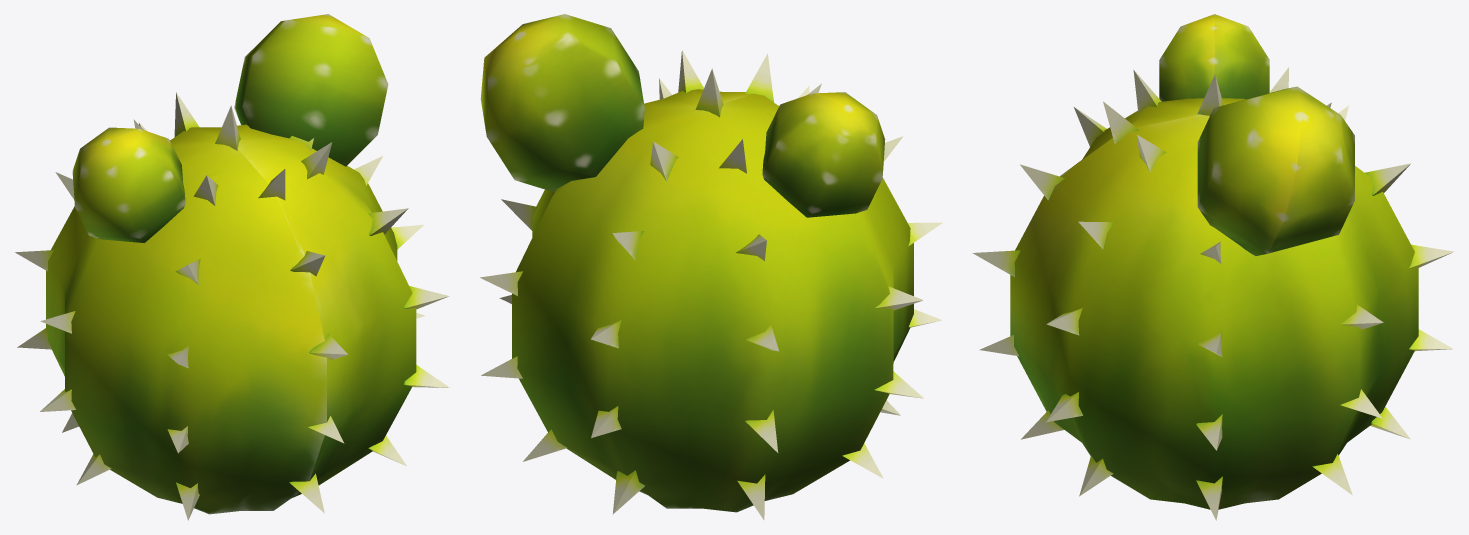
Rendered from tree1.fbx.
The picture shows the model from 3 angles, left to right: view 1: azimuth 30°, elevation 25°; view 2: azimuth 150°, elevation 25°; view 3: azimuth 270°, elevation 25°; orthographic projection. The views are drawn at different scales.
Parts seen in each view (by area): view 1: tree1; view 2: tree1; view 3: tree1.
Boxes of the visible parts, <box> form: tree1: <box>15,14,449,520</box>; tree1: <box>480,14,942,520</box>; tree1: <box>972,14,1454,520</box>.
Size of the model in its own units: 25.17 by 25.27 by 25.38.
